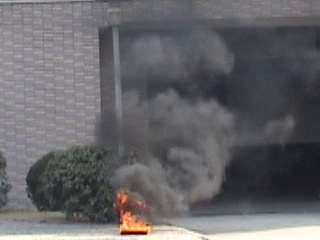smoke: (103, 31, 233, 191)
